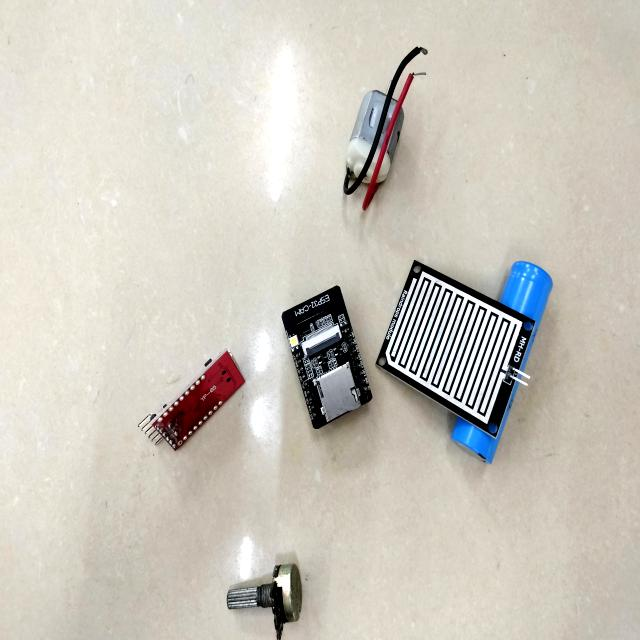3-3-Volt-Battery: (447, 244, 562, 474)
DC-Motor: (328, 82, 412, 228)
ESP32-CAM: (274, 271, 377, 454)
FT-232-USB-Serial-Module: (137, 343, 250, 449)
Raindrops-Module: (368, 247, 536, 428)
Taper-Potentiometer: (215, 549, 316, 640)
